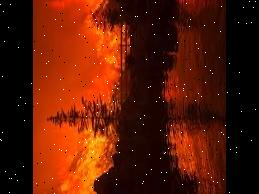fire: (49, 100, 121, 194), (47, 0, 129, 67)
